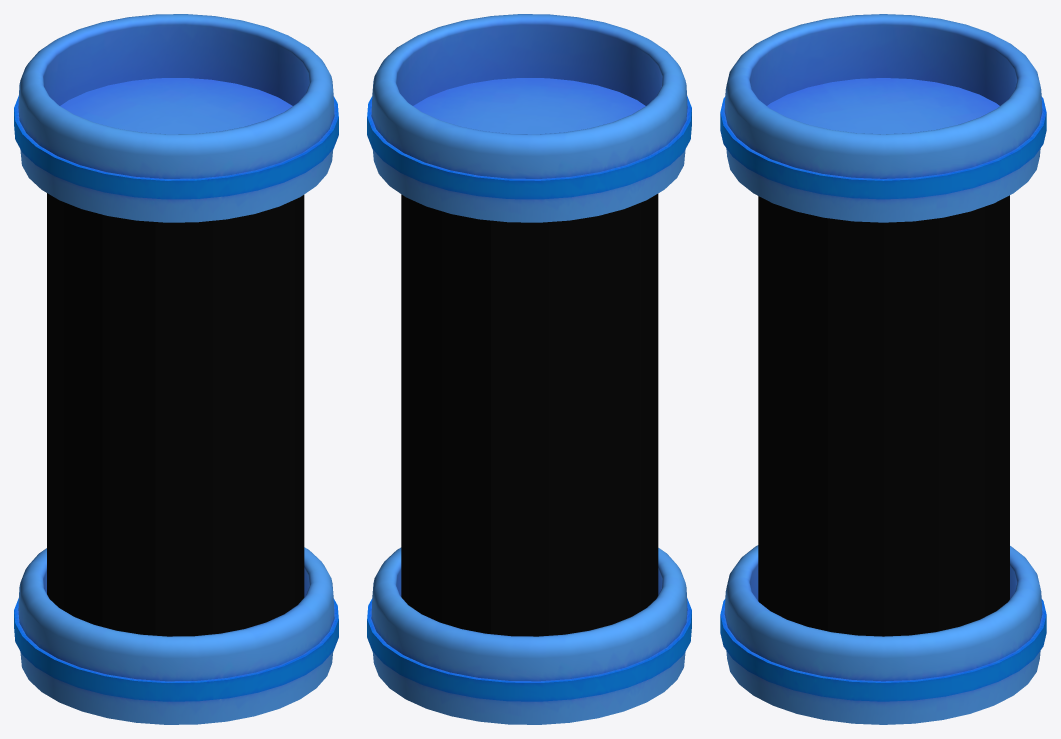
The model's file is Bucket.fbx.
3 renders of one model, left to right at view 1: azimuth 30°, elevation 25°; view 2: azimuth 150°, elevation 25°; view 3: azimuth 270°, elevation 25°, orthographic.
Visible parts, largest first — view 1: Battery, Bucket001, Bucket; view 2: Battery, Bucket001, Bucket; view 3: Battery, Bucket001, Bucket.
Part boxes in pixels (x1=…): Battery: x1=47, y1=193, x2=304, y2=636; Bucket001: x1=14, y1=14, x2=338, y2=222; Bucket: x1=14, y1=547, x2=338, y2=724; Battery: x1=401, y1=193, x2=658, y2=636; Bucket001: x1=367, y1=14, x2=691, y2=222; Bucket: x1=367, y1=547, x2=691, y2=724; Battery: x1=758, y1=195, x2=1009, y2=636; Bucket001: x1=720, y1=14, x2=1046, y2=222; Bucket: x1=720, y1=545, x2=1046, y2=724.
Bounding box in the file's own units: 70.35 × 139 × 70.59.
2 materials, 1 textured.
